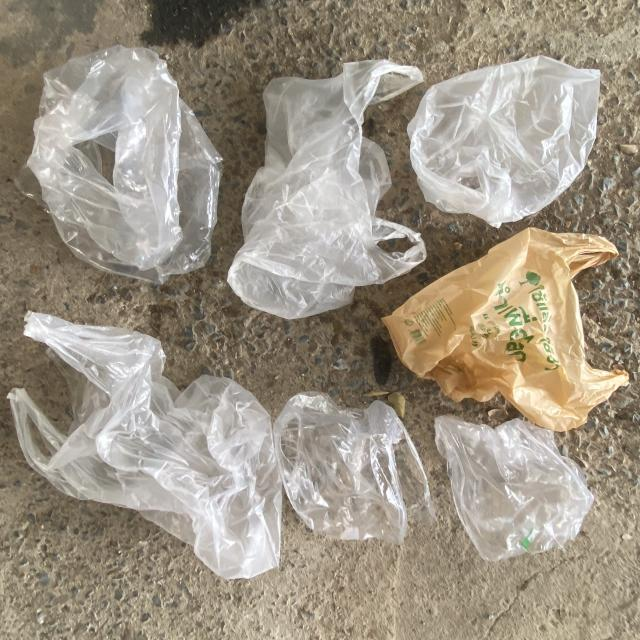Single-layer Plastic: (8, 312, 282, 579), (228, 60, 426, 319), (382, 229, 629, 431), (16, 45, 222, 284), (408, 56, 600, 228), (274, 391, 435, 544), (435, 415, 594, 561)
